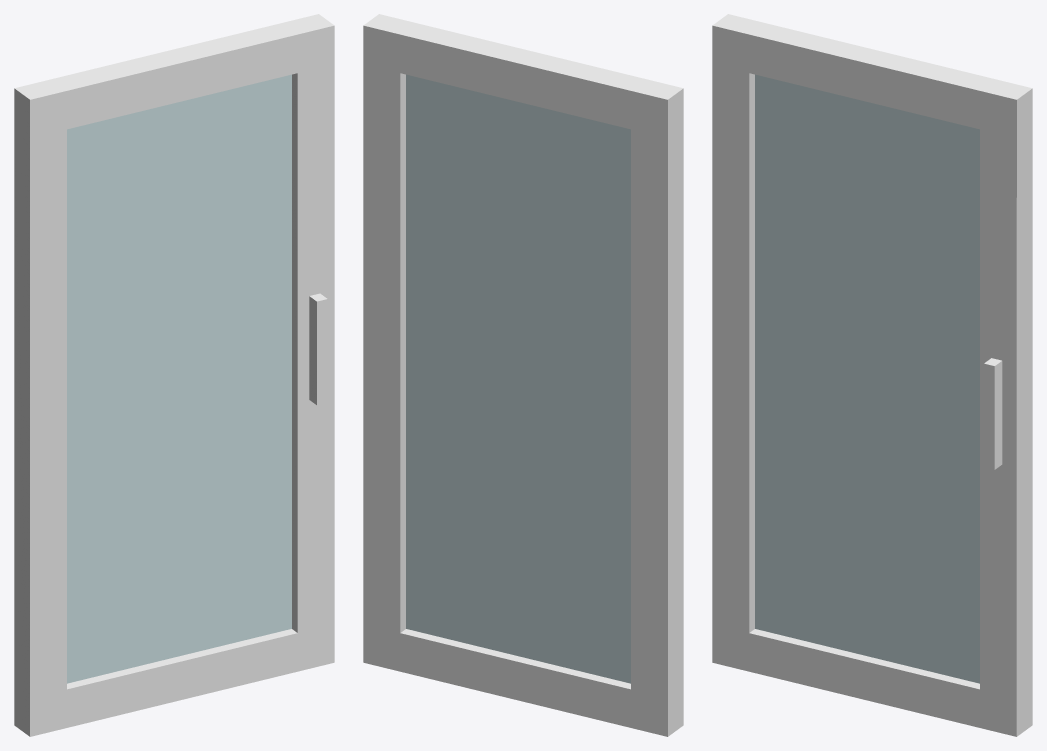
Rendered from Itr_Window_One_Left_01.FBX.
3 renders of one model, left to right at view 1: azimuth 30°, elevation 25°; view 2: azimuth 150°, elevation 25°; view 3: azimuth 330°, elevation 25°, orthographic.
Parts seen in each view (by area): view 1: Itr_Window_One_Left_01; view 2: Itr_Window_One_Left_01; view 3: Itr_Window_One_Left_01.
Part boxes in pixels (box(x1,y1,x2,y2)): Itr_Window_One_Left_01: box(14, 14, 334, 736); Itr_Window_One_Left_01: box(363, 14, 683, 736); Itr_Window_One_Left_01: box(712, 14, 1032, 736).
Bounding box in the file's own units: 32.64 × 65.27 × 4.34.
